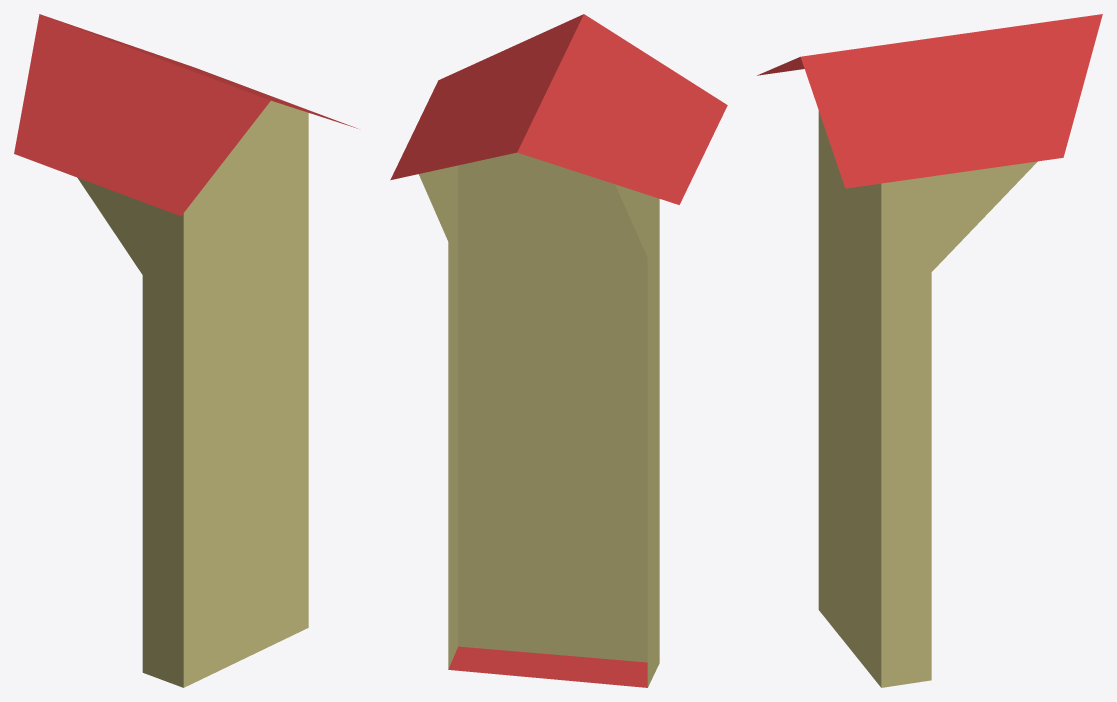
3 renders of one model, left to right at view 1: azimuth 30°, elevation 25°; view 2: azimuth 150°, elevation 25°; view 3: azimuth 270°, elevation 25°, orthographic. The views are drawn at different scales.
Bounding box in the file's own units: 5.44 × 5.55 × 10.47.
